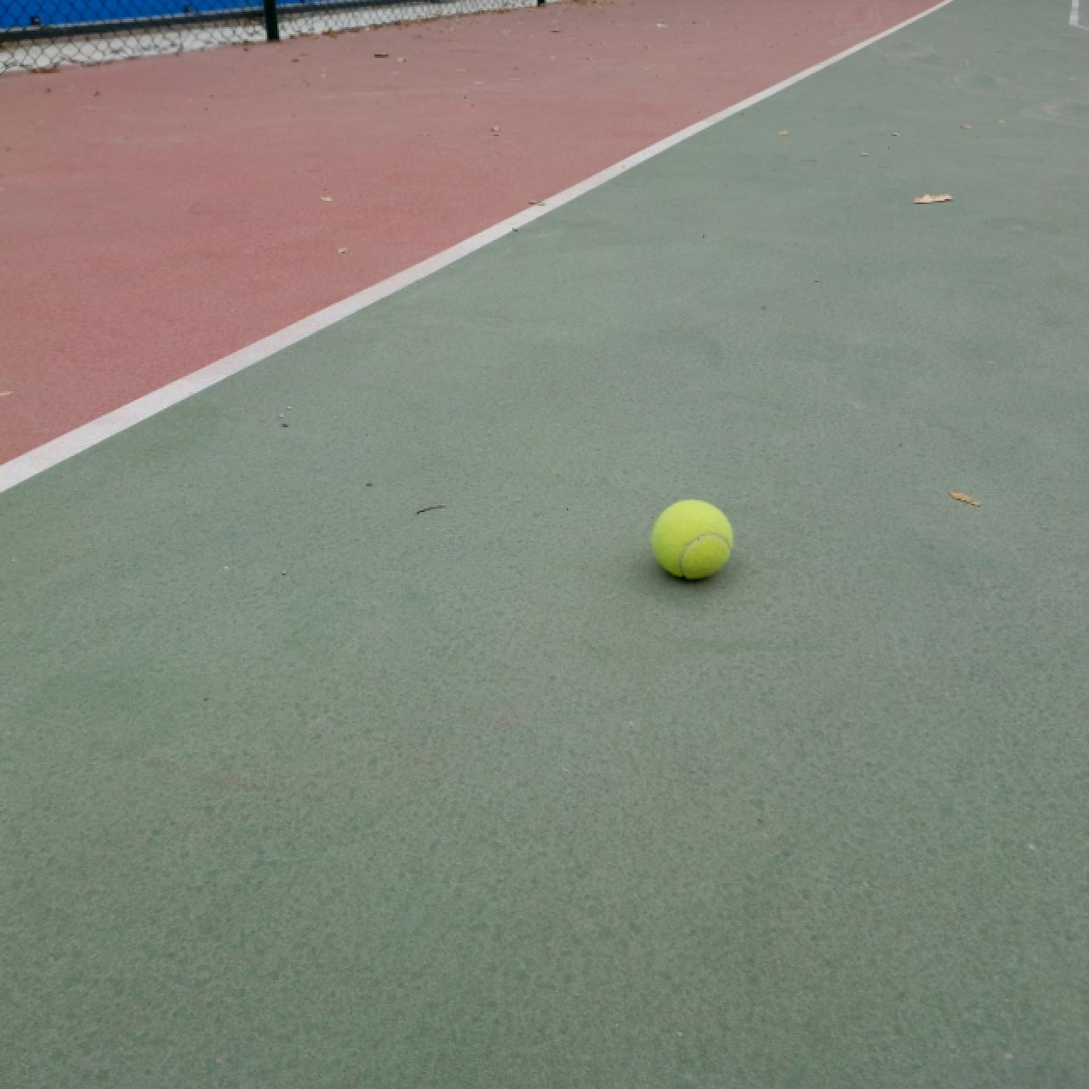tennis-ball: (651, 496, 735, 582)
